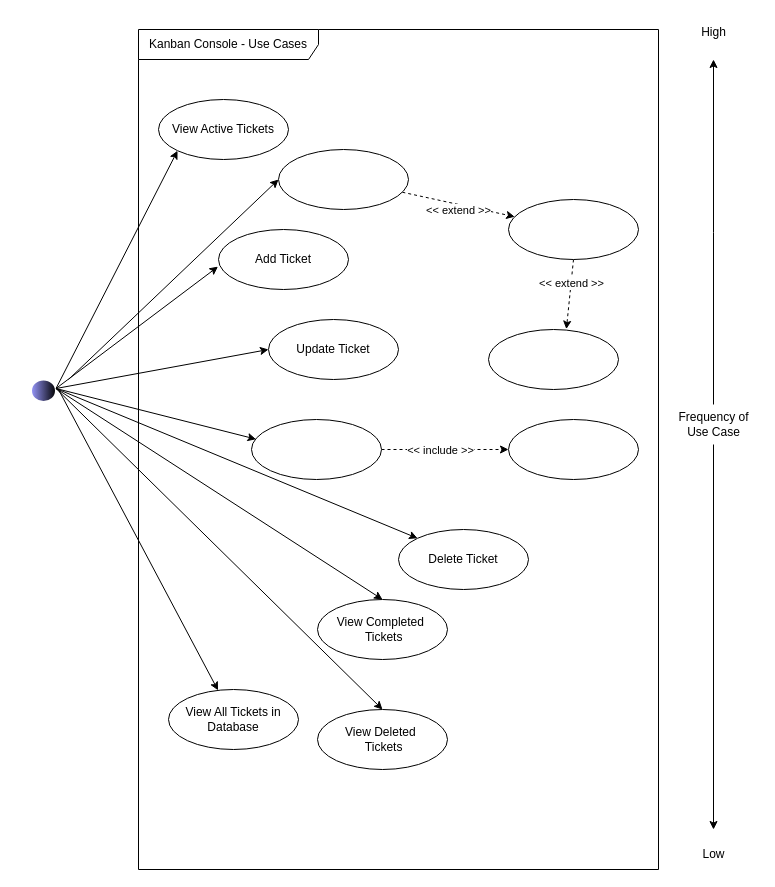
Some shapes in this 775 by 887 pixel diagram are drawn without their labels. Here are the shapes that lost their labels. From the top down, the centre of each, then its label:
[343,179]: View Detailed Ticket
[573,229]: Log Time to Ticket
[553,359]: Mark Ticket Complete
[316,449]: Search for Ticket
[573,449]: View Matching Tickets
